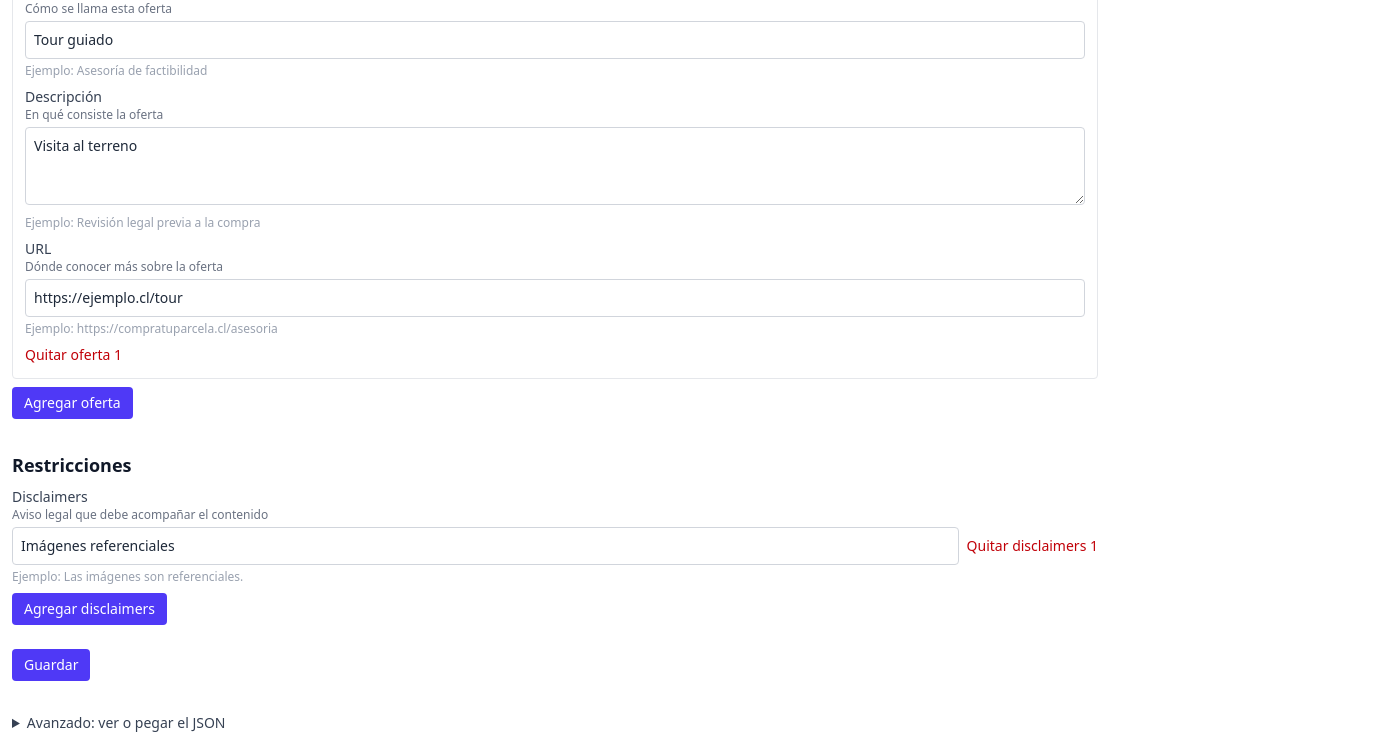
Test: EditorDePerfil › un JSON inválido muestra el mensaje del dominio y no ofrece reintentar
The width and height of the screenshot is (1378, 733).
(page scrolled)
Click the button "Guardar": (51, 665) [12,649,90,681]
(page scrolled)
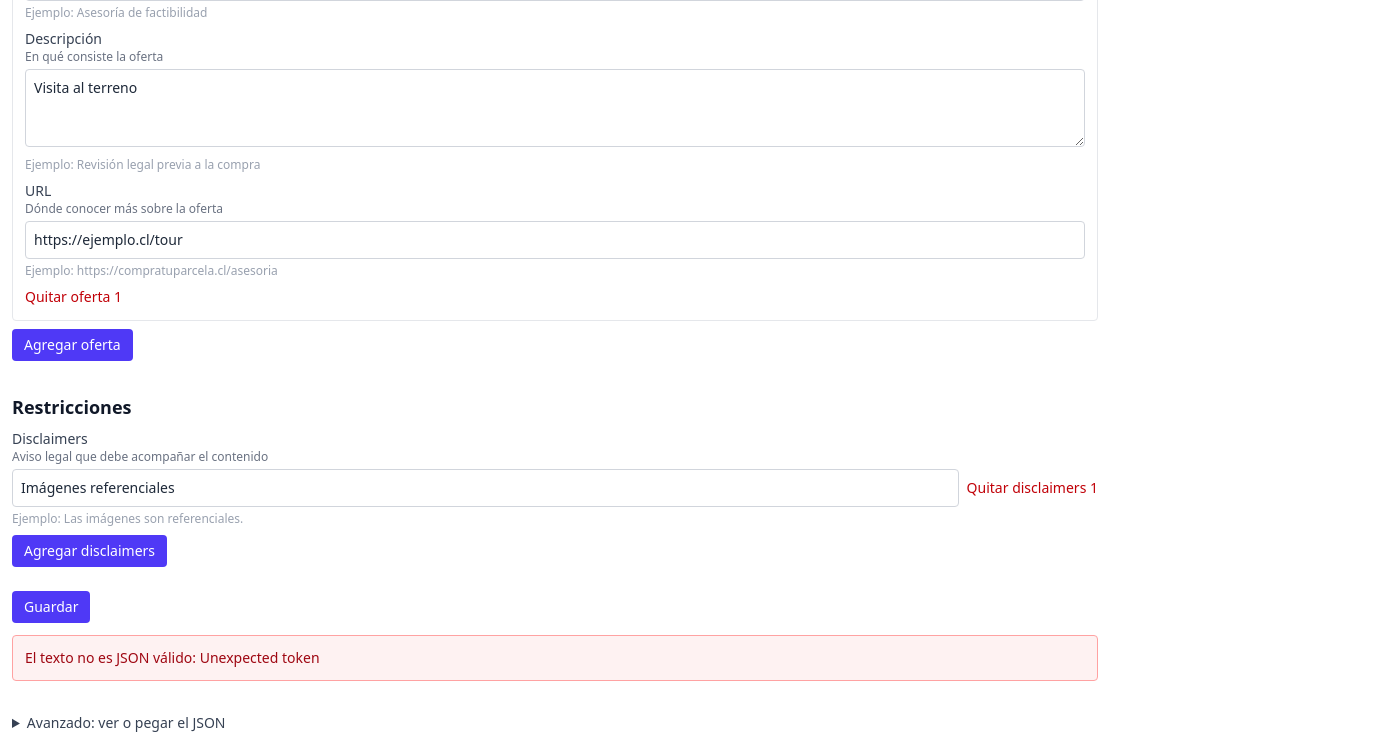
Check: the message shows "no es JSON válido", box [25,648,320,667]
